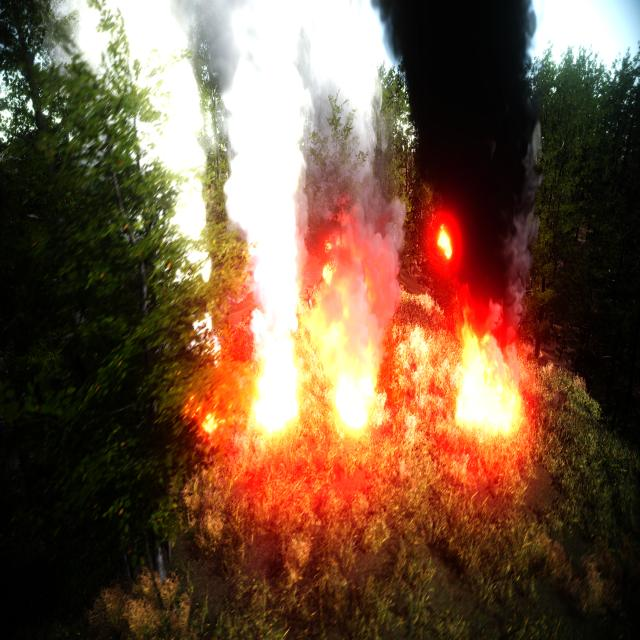Human: (306, 286, 314, 331)
